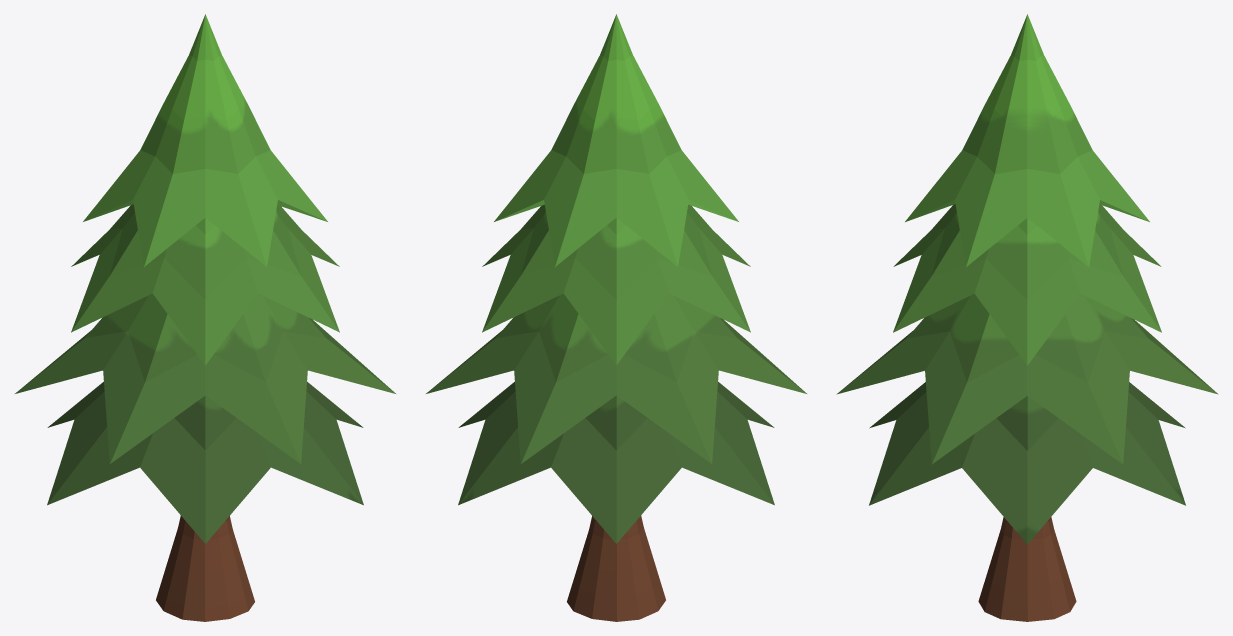
The model's file is Pohon1.fbx.
3 views of the same model, side by side, from view 1: azimuth 30°, elevation 25°; view 2: azimuth 150°, elevation 25°; view 3: azimuth 270°, elevation 25° (orthographic).
Visible parts, largest first — view 1: Pohon1_LOD0; view 2: Pohon1_LOD0; view 3: Pohon1_LOD0.
Boxes of the visible parts, x1,y1,x2,y2 form: Pohon1_LOD0: (15,14,395,621); Pohon1_LOD0: (426,14,806,621); Pohon1_LOD0: (836,14,1218,621).
Size of what is drawn, in the model's own units: 241 by 426 by 252.
